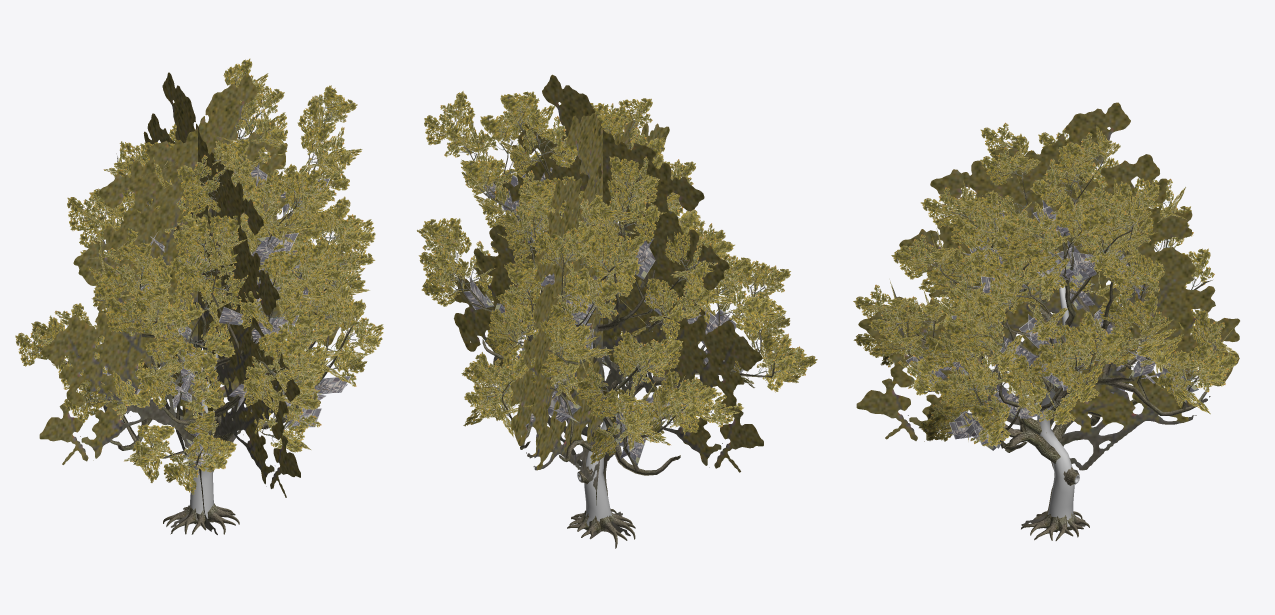
Rendered from Tree-Oak5B.fbx.
The picture shows the model from 3 angles, left to right: view 1: azimuth 30°, elevation 25°; view 2: azimuth 150°, elevation 25°; view 3: azimuth 270°, elevation 25°; orthographic projection. The views are drawn at different scales.
Parts seen in each view (by area): view 1: Tree-Oak5B_LOD0, Billboard-Oak5B; view 2: Tree-Oak5B_LOD0, Billboard-Oak5B; view 3: Tree-Oak5B_LOD0, Billboard-Oak5B.
Boxes of the visible parts, x1=… form: Tree-Oak5B_LOD0: x1=15, y1=58, x2=383, y2=534; Billboard-Oak5B: x1=39, y1=72, x2=338, y2=534; Tree-Oak5B_LOD0: x1=417, y1=91, x2=817, y2=548; Billboard-Oak5B: x1=454, y1=74, x2=763, y2=539; Tree-Oak5B_LOD0: x1=853, y1=122, x2=1238, y2=540; Billboard-Oak5B: x1=856, y1=102, x2=1239, y2=526.
Size of what is drawn, in the model's own units: 2763 by 3401 by 2886.
